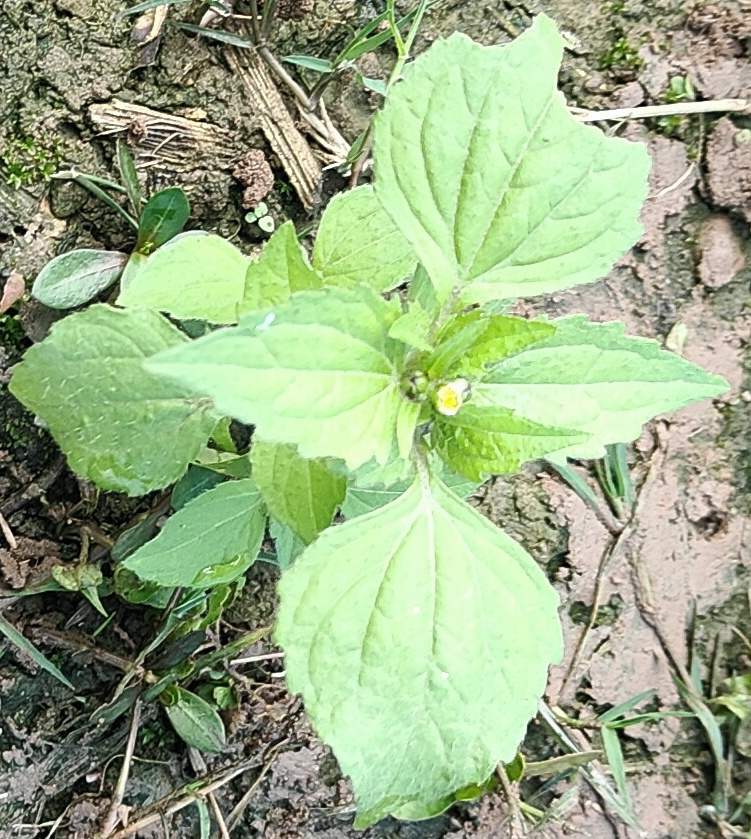马蹄金: (64, 33, 667, 772)
